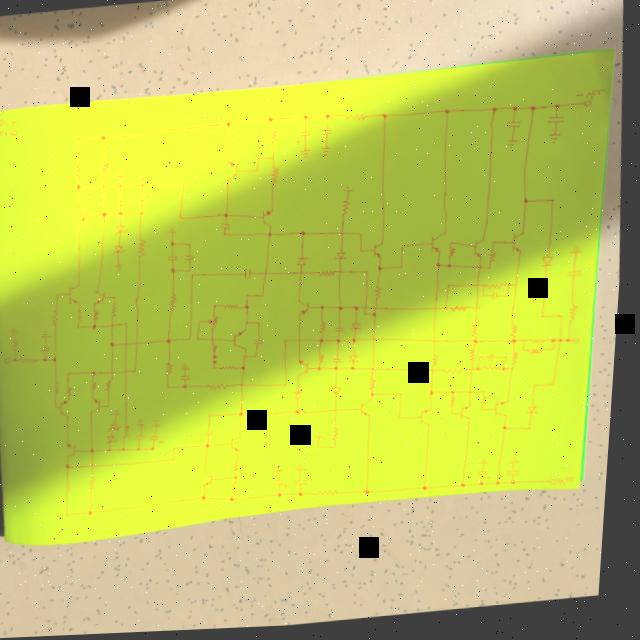capacitor: (295, 132, 315, 149), (136, 195, 157, 209), (481, 474, 501, 486), (569, 272, 587, 285), (156, 434, 172, 448), (279, 480, 296, 493), (548, 120, 566, 132), (507, 123, 523, 136), (168, 256, 183, 268), (256, 337, 271, 349), (246, 269, 257, 283), (116, 200, 129, 210), (298, 483, 316, 490), (323, 132, 336, 141), (140, 435, 151, 445), (186, 256, 198, 265), (44, 345, 56, 354), (511, 475, 526, 482), (223, 223, 233, 233), (339, 329, 350, 338), (184, 376, 198, 383), (207, 433, 221, 440), (337, 360, 347, 369), (492, 357, 500, 368), (494, 297, 502, 306)
crossover: (138, 341, 145, 349), (302, 340, 308, 348), (128, 343, 134, 350), (95, 465, 102, 471), (266, 274, 272, 280), (375, 340, 381, 346), (343, 234, 349, 240), (244, 385, 250, 391), (114, 325, 120, 331), (119, 185, 125, 191), (142, 184, 148, 190), (437, 342, 442, 349), (437, 310, 442, 317), (341, 272, 346, 279), (375, 371, 380, 377), (338, 411, 343, 417), (214, 339, 220, 344), (302, 275, 309, 279), (104, 184, 108, 191), (129, 371, 134, 376), (435, 373, 440, 378), (377, 310, 383, 314), (472, 395, 476, 401), (480, 287, 484, 293), (475, 372, 479, 377), (367, 310, 372, 314), (115, 373, 119, 377)
diode: (543, 259, 560, 276), (298, 258, 313, 272), (114, 246, 130, 259), (335, 388, 349, 401), (112, 425, 127, 436), (110, 436, 125, 447), (336, 255, 351, 266), (532, 408, 544, 421), (352, 357, 365, 369), (297, 393, 309, 405), (117, 226, 130, 237), (355, 325, 366, 335)
ground: (572, 249, 588, 264), (507, 142, 524, 156), (549, 138, 564, 151), (512, 460, 528, 472), (139, 170, 151, 184), (115, 169, 128, 181), (44, 329, 57, 341), (299, 467, 314, 477), (321, 150, 334, 161), (301, 152, 313, 163), (155, 421, 168, 431), (343, 188, 357, 197), (115, 409, 127, 419), (485, 462, 495, 473), (141, 419, 152, 429), (320, 434, 331, 444), (186, 365, 196, 374), (13, 327, 23, 336), (279, 468, 289, 477), (117, 266, 127, 274), (171, 230, 179, 237)
inductor: (534, 353, 546, 361)
junction: (224, 213, 233, 222), (101, 135, 109, 143), (476, 343, 484, 351), (370, 492, 378, 500), (226, 123, 234, 130), (303, 117, 311, 124), (562, 319, 570, 326), (525, 203, 532, 210), (383, 117, 390, 124), (208, 497, 215, 504), (380, 270, 387, 277), (78, 185, 85, 192), (304, 494, 311, 501), (450, 287, 457, 294), (104, 213, 111, 220), (173, 269, 180, 276), (268, 120, 276, 126), (256, 169, 262, 177), (427, 490, 435, 496), (531, 111, 538, 117), (555, 109, 562, 115), (446, 113, 452, 120), (493, 111, 499, 118), (235, 499, 242, 505), (210, 445, 217, 451), (533, 430, 539, 437), (434, 394, 440, 401), (555, 387, 562, 393), (180, 218, 187, 224), (450, 268, 457, 274), (543, 319, 550, 325), (341, 309, 348, 315), (248, 307, 254, 314), (244, 368, 251, 374), (516, 485, 523, 491), (142, 447, 148, 454), (57, 358, 64, 364), (239, 478, 246, 484), (439, 266, 445, 273), (513, 111, 520, 117), (78, 137, 85, 143), (174, 243, 180, 250), (225, 233, 231, 240), (304, 234, 310, 240), (326, 117, 332, 123), (507, 430, 513, 436), (94, 512, 100, 518), (114, 343, 120, 349), (170, 341, 176, 347), (71, 465, 77, 471), (552, 203, 558, 209), (402, 420, 408, 426), (300, 413, 306, 419), (187, 387, 193, 393), (244, 414, 250, 420), (571, 344, 577, 350), (95, 449, 101, 455), (502, 485, 508, 491), (486, 486, 492, 492), (555, 343, 561, 349), (354, 369, 360, 375), (287, 386, 293, 392), (71, 513, 77, 519), (284, 495, 290, 501), (323, 447, 329, 453), (339, 448, 345, 454), (403, 247, 409, 253), (485, 297, 491, 303), (478, 309, 484, 315), (183, 186, 189, 192), (269, 235, 275, 241), (357, 309, 364, 314), (119, 213, 126, 218), (95, 372, 101, 377), (538, 388, 543, 394), (455, 416, 461, 421), (340, 342, 345, 348), (323, 342, 329, 347), (376, 317, 382, 322), (178, 448, 183, 454), (156, 449, 162, 454), (128, 323, 134, 328), (46, 359, 52, 364), (509, 298, 514, 304), (517, 287, 522, 293), (190, 270, 195, 276), (249, 295, 254, 301), (507, 371, 511, 378), (515, 344, 522, 348), (494, 246, 501, 250), (368, 273, 373, 278), (264, 296, 269, 301), (261, 324, 266, 329), (455, 396, 460, 401), (507, 361, 512, 366), (375, 396, 380, 401), (366, 316, 371, 321), (453, 245, 458, 250), (70, 373, 76, 377), (468, 487, 472, 493), (485, 395, 491, 399), (514, 372, 520, 376), (562, 345, 568, 349), (355, 342, 361, 346), (287, 342, 293, 346), (214, 415, 218, 421), (127, 449, 133, 453), (171, 387, 175, 393), (80, 327, 86, 331), (96, 327, 102, 331), (486, 288, 490, 294), (446, 311, 452, 315), (482, 269, 486, 275), (258, 160, 262, 166), (363, 251, 367, 257), (362, 235, 366, 241), (249, 322, 253, 328), (403, 269, 408, 273), (485, 413, 490, 417), (482, 360, 487, 364), (405, 397, 409, 402), (339, 370, 344, 374), (322, 371, 327, 375), (324, 309, 328, 314), (178, 459, 182, 464), (113, 449, 118, 453), (110, 406, 115, 410), (17, 360, 22, 364), (116, 298, 121, 302), (216, 307, 221, 311), (248, 356, 252, 361), (191, 245, 195, 249), (481, 373, 485, 377), (526, 354, 530, 358), (555, 353, 559, 357), (526, 345, 530, 349), (137, 372, 141, 376), (60, 293, 64, 297), (59, 407, 63, 411), (491, 272, 495, 276), (510, 289, 514, 293), (141, 215, 145, 219), (195, 276, 199, 280), (273, 159, 277, 163), (201, 339, 205, 343), (193, 338, 197, 342), (202, 323, 206, 327), (259, 357, 263, 361), (216, 369, 220, 373)
resistor: (571, 307, 584, 329), (138, 240, 151, 262), (320, 491, 345, 502), (270, 168, 282, 189), (342, 201, 354, 222), (170, 294, 183, 313), (211, 315, 224, 333), (347, 117, 370, 127), (447, 371, 469, 381), (101, 163, 113, 181), (213, 384, 234, 394), (490, 253, 502, 269), (472, 352, 484, 368), (377, 288, 387, 307), (321, 272, 339, 282), (535, 342, 553, 352), (93, 478, 105, 493), (169, 362, 180, 378), (474, 327, 485, 343), (75, 165, 86, 181), (228, 304, 245, 314), (224, 365, 241, 375), (434, 359, 446, 373), (238, 460, 247, 478), (455, 309, 473, 318), (56, 312, 66, 328), (26, 356, 42, 366), (270, 132, 281, 146), (68, 480, 79, 494), (372, 380, 382, 395), (488, 370, 506, 378), (322, 324, 332, 338), (108, 381, 118, 395), (95, 310, 105, 324), (127, 426, 137, 440), (514, 357, 524, 370), (113, 303, 121, 319), (58, 380, 66, 396), (515, 328, 524, 342), (13, 340, 22, 354), (79, 312, 88, 325), (491, 288, 505, 296), (338, 430, 346, 444), (485, 401, 495, 412), (94, 383, 104, 393), (322, 357, 330, 369), (451, 252, 460, 262), (236, 486, 245, 496), (453, 403, 462, 413), (70, 387, 78, 398), (216, 347, 222, 355)
terminal: (556, 482, 565, 493), (584, 106, 594, 115), (215, 357, 224, 367), (9, 357, 16, 366), (579, 342, 585, 350)
text: (573, 91, 609, 107), (564, 479, 583, 493)
transistor: (472, 241, 493, 267), (432, 233, 452, 260), (225, 160, 243, 190), (421, 408, 441, 433), (233, 332, 254, 355), (513, 236, 531, 262), (76, 205, 95, 227), (233, 436, 251, 459), (70, 283, 86, 307), (497, 405, 516, 425), (364, 403, 383, 423), (264, 210, 280, 233), (205, 472, 223, 492), (298, 301, 316, 321), (63, 398, 78, 421), (299, 361, 316, 381), (70, 441, 86, 462), (93, 396, 108, 418), (463, 409, 479, 428), (96, 290, 112, 308), (375, 244, 389, 263)
